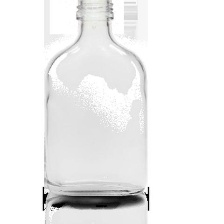bottle: (42, 0, 160, 199)
